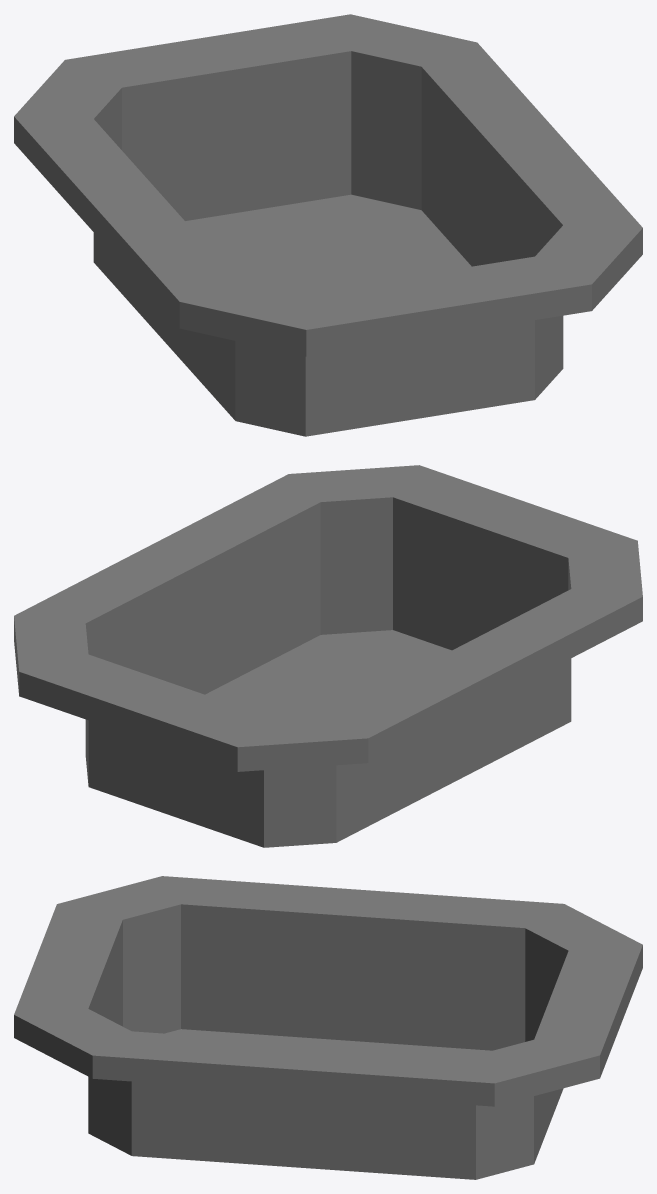
3 renders of one model, top to bottom at view 1: azimuth 30°, elevation 25°; view 2: azimuth 150°, elevation 25°; view 3: azimuth 270°, elevation 25°, orthographic. The views are drawn at different scales.
Visible parts, largest first — view 1: Base:pCube1; view 2: Base:pCube1; view 3: Base:pCube1.
Part boxes in pixels (x1,y1,x2,y2): Base:pCube1: (14, 14, 642, 436); Base:pCube1: (14, 465, 642, 847); Base:pCube1: (14, 876, 642, 1179).
Bounding box in the file's own units: 12.31 × 3.45 × 15.78.
1 material, 1 textured.
